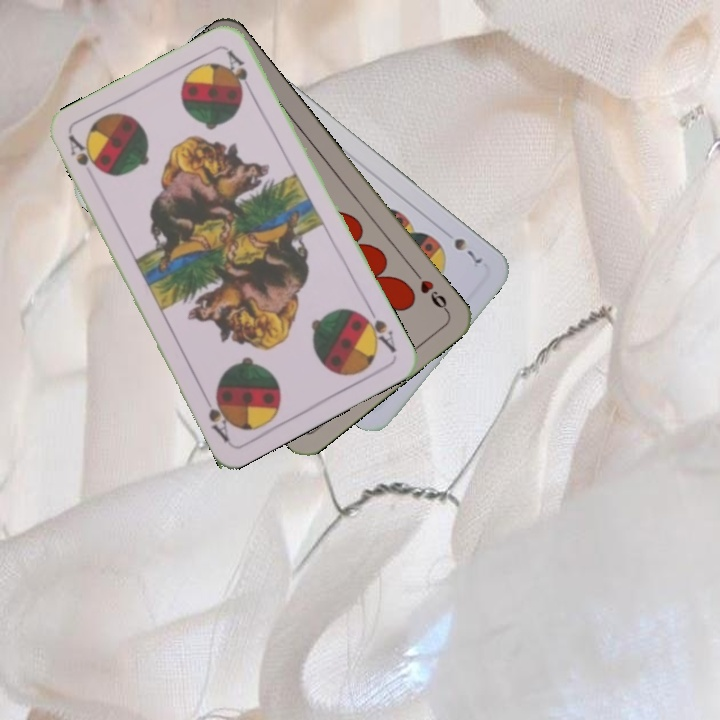H9: (409, 265, 451, 315)
S7: (449, 234, 484, 267)
SA: (355, 302, 399, 356), (64, 131, 97, 170)
